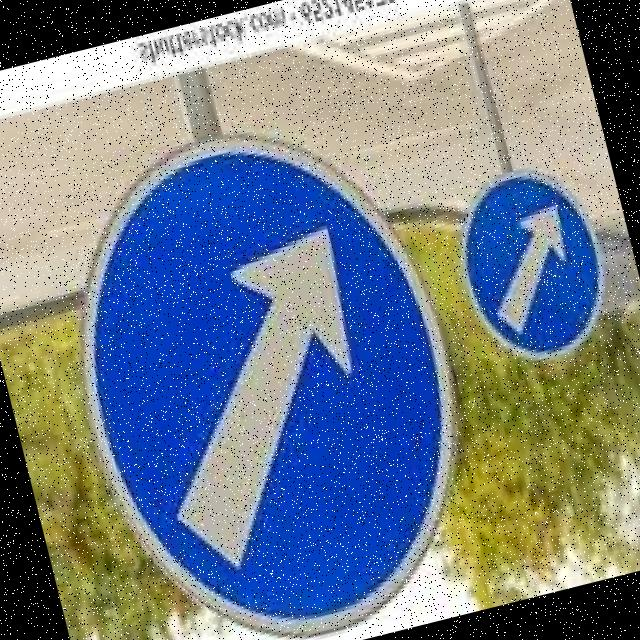compulsory_keep_right: (15, 91, 515, 640), (435, 142, 632, 384)
